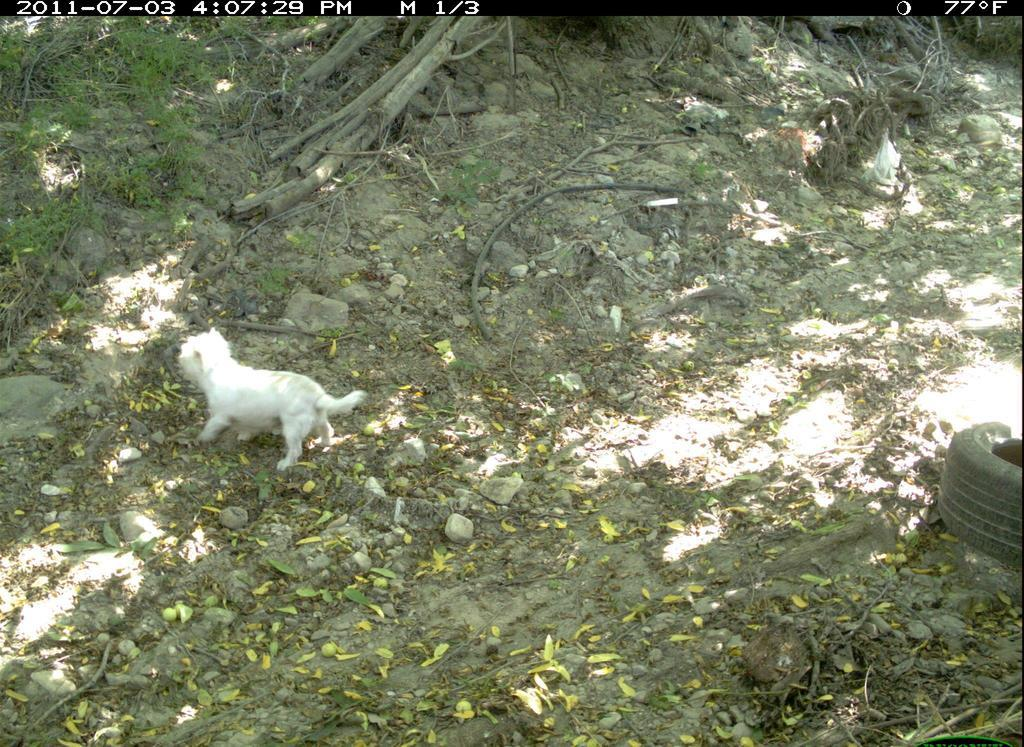dog: (155, 309, 379, 493)
